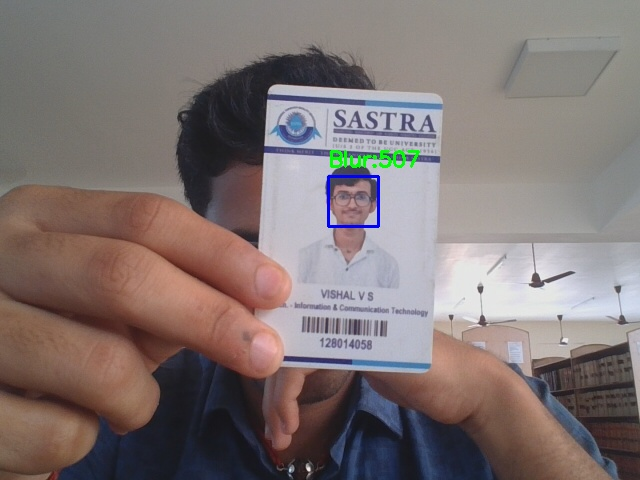fake: (328, 176, 378, 226)
